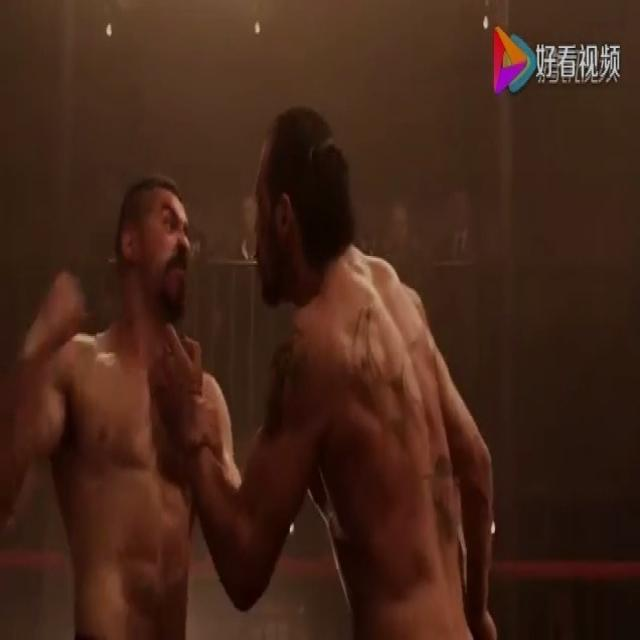fight: (0, 106, 501, 638)
